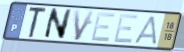A: (133, 14, 158, 46)
E: (112, 13, 140, 45), (89, 12, 117, 43)
N: (42, 7, 74, 41)
T: (27, 7, 49, 40)
V: (73, 9, 97, 42)
